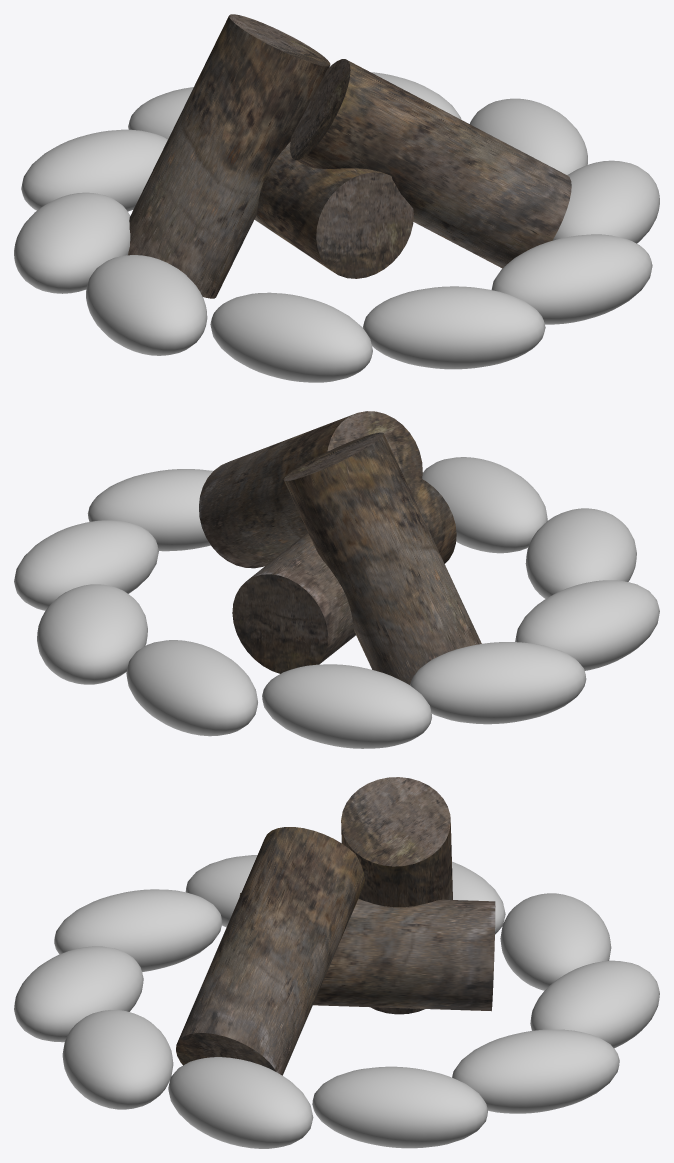
File: firePLACEHOLDER.fbx
3 renders of one model, top to bottom at view 1: azimuth 30°, elevation 25°; view 2: azimuth 150°, elevation 25°; view 3: azimuth 270°, elevation 25°, orthographic. The views are drawn at different scales.
Parts seen in each view (by area): view 1: Sphere, Cylinder.001, Cylinder, Cylinder.002; view 2: Sphere, Cylinder.001, Cylinder, Cylinder.002; view 3: Sphere, Cylinder, Cylinder.002, Cylinder.001.
Part boxes in pixels (<box>): Sphere: <box>14,72,659,382</box>; Cylinder.001: <box>128,14,330,298</box>; Cylinder: <box>290,59,571,268</box>; Cylinder.002: <box>254,142,413,278</box>; Sphere: <box>14,457,659,748</box>; Cylinder.001: <box>283,432,481,684</box>; Cylinder: <box>199,411,422,568</box>; Cylinder.002: <box>232,479,456,673</box>; Sphere: <box>14,855,659,1148</box>; Cylinder: <box>176,827,364,1075</box>; Cylinder.002: <box>239,893,495,1011</box>; Cylinder.001: <box>341,777,452,1014</box>.
Bounding box in the file's own units: 390 × 171 × 399.
